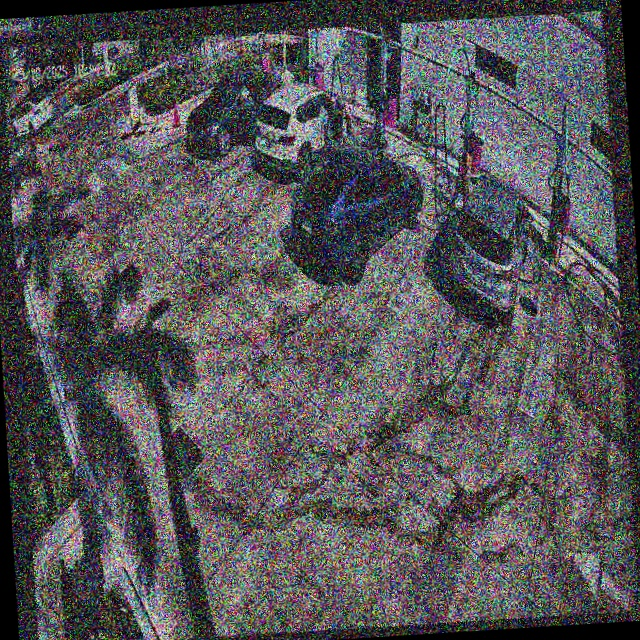Car: (287, 134, 429, 289), (444, 168, 535, 324), (253, 78, 356, 192), (184, 65, 287, 162)
